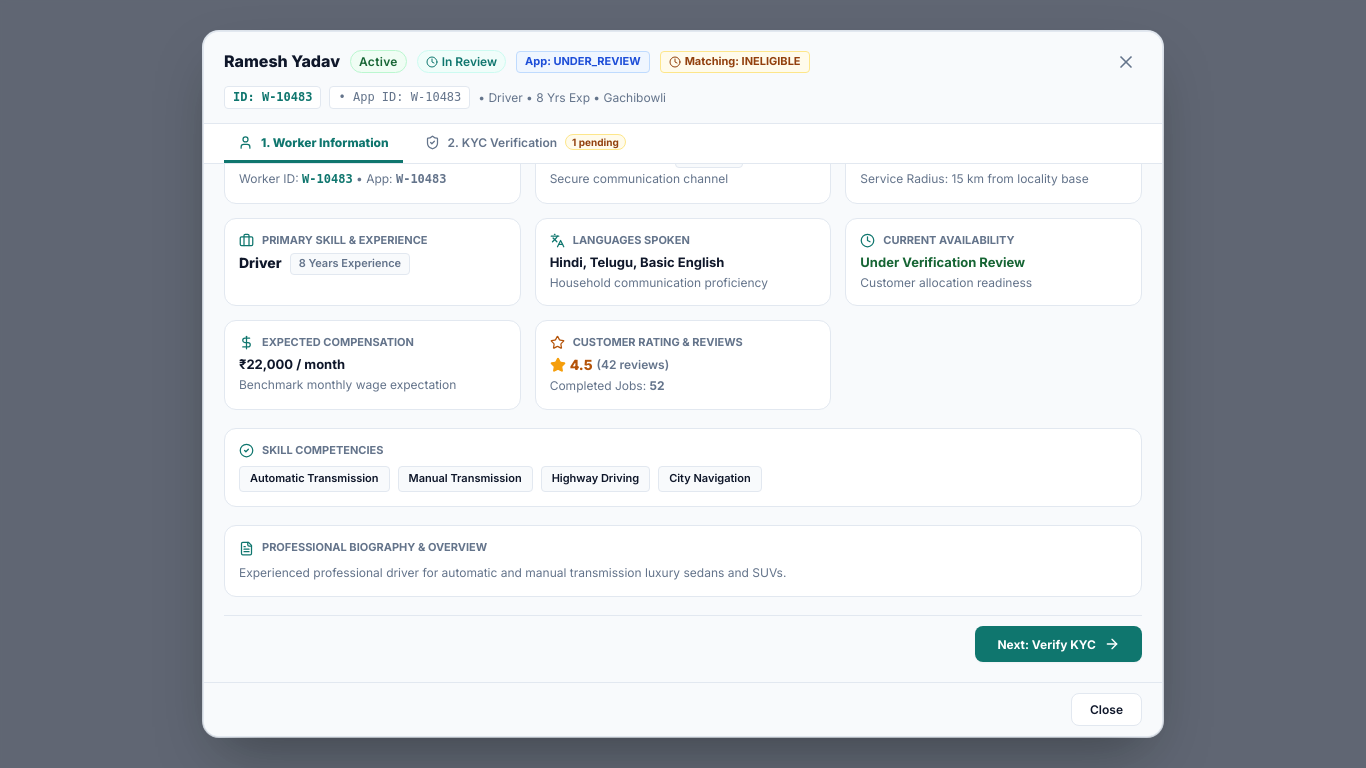
Test case: Worker Application & Verification Complete Workflow › 1. Queue Ingestion & Separation of Concerns › enforces matching ineligibility in WorkerDetailModal with header badge and verification navigation
The image size is (1366, 768).
(page scrolled)
Expected: the text "Matching: INELIGIBLE" is shown, x1=685 y1=54 x2=800 y2=70
Click the button "Next: Verify KYC" at (1059, 644), box x1=975 y1=626 x2=1142 y2=662
(page scrolled)
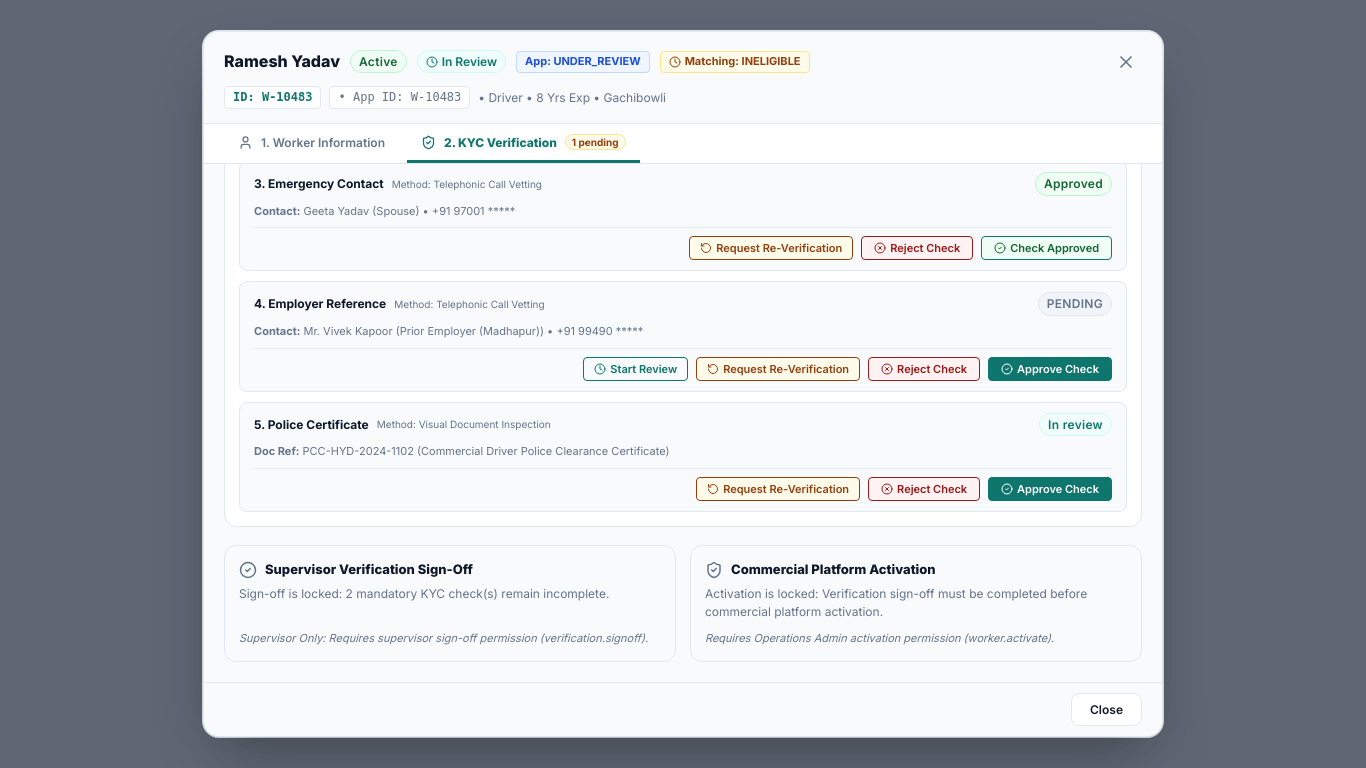
Now the heading "Commercial Platform Activation" is shown, box x1=731 y1=560 x2=936 y2=579
Now the text "Activation is locked" is shown, box x1=705 y1=586 x2=1087 y2=619
